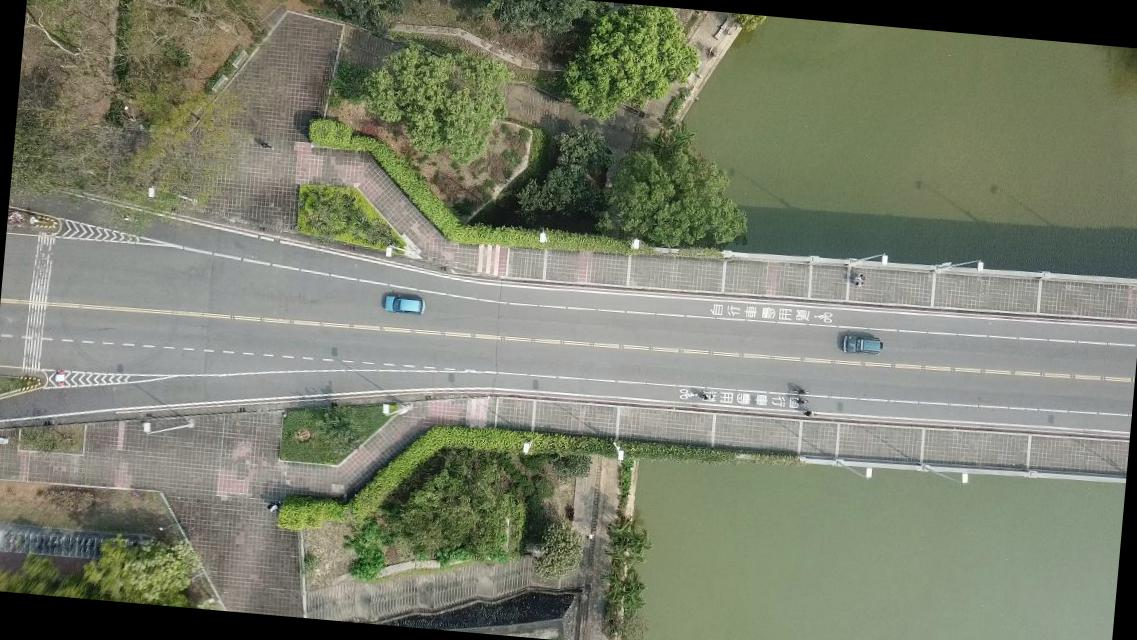vehicle: (380, 294, 425, 316), (842, 334, 882, 354)
